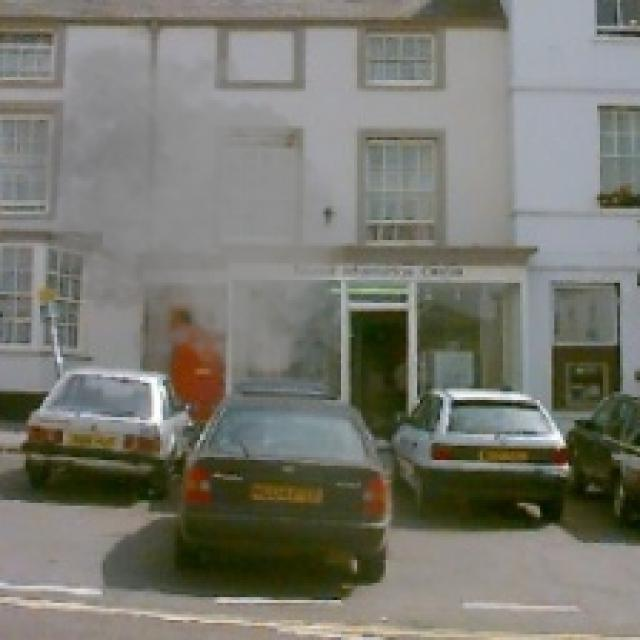smoke: (0, 31, 357, 380)
